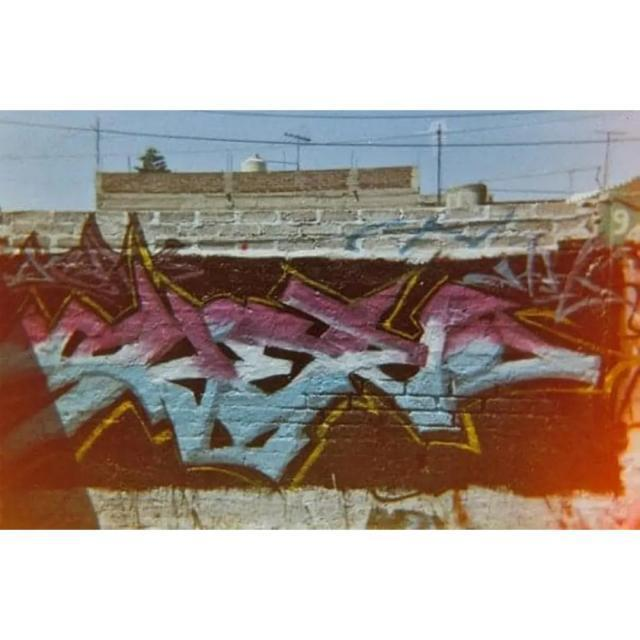-: (27, 233, 620, 500)
